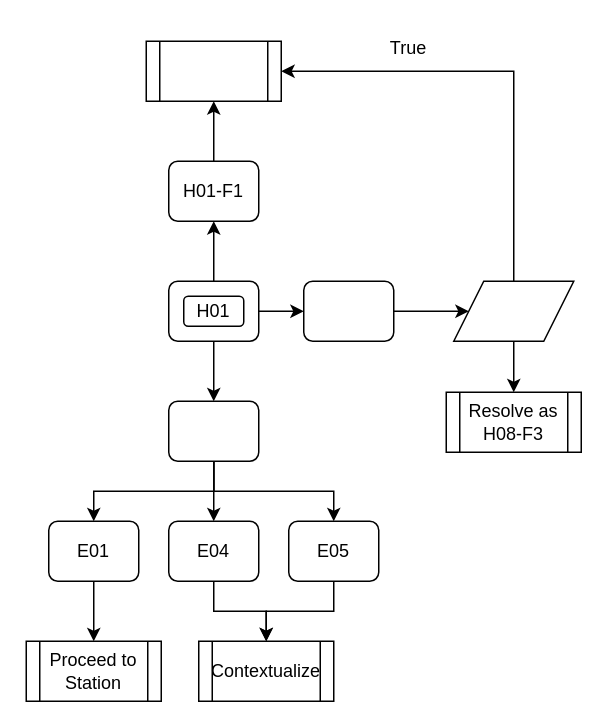
The diagram is 608 pixels wide and 728 high, and some of its shapes have lost their labels. The centre of each missing label's shape, as x and y in pixels:
"Course correct?" belongs at point (513, 310).
"H01-F2" belongs at point (348, 310).
"H01-F3" belongs at point (213, 430).
"Signal Overrun" belongs at point (213, 70).
